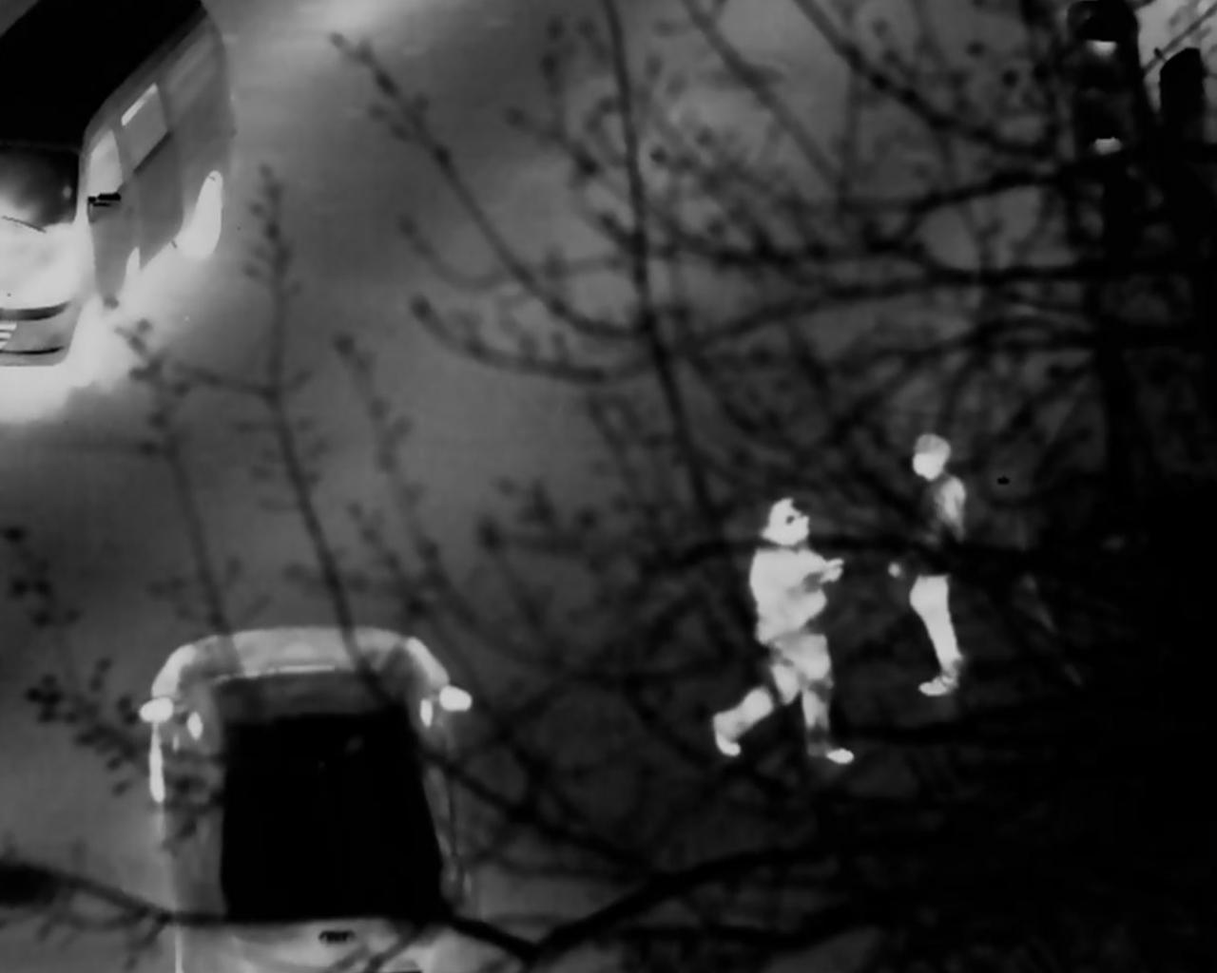person: (714, 500, 869, 758), (891, 436, 976, 715)
